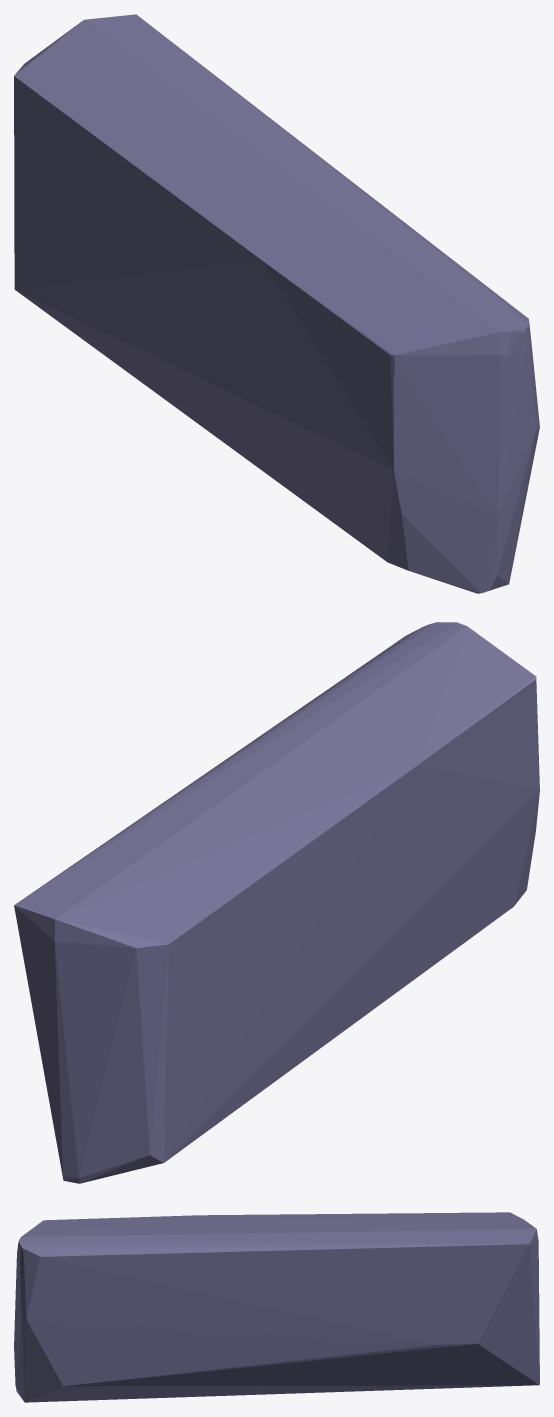
File: food_prepared_bar_b01.glb
The picture shows the model from 3 angles, top to bottom: view 1: azimuth 30°, elevation 25°; view 2: azimuth 150°, elevation 25°; view 3: azimuth 270°, elevation 25°; orthographic projection. The views are drawn at different scales.
Parts seen in each view (by area): view 1: geometry_0; view 2: geometry_0; view 3: geometry_0.
Boxes of the visible parts, x1,y1,x2,y2 form: geometry_0: [14, 14, 539, 593]; geometry_0: [14, 622, 539, 1183]; geometry_0: [14, 1212, 539, 1402].
Bounding box in the file's own units: 0.0938 × 0.1698 × 0.4796.
